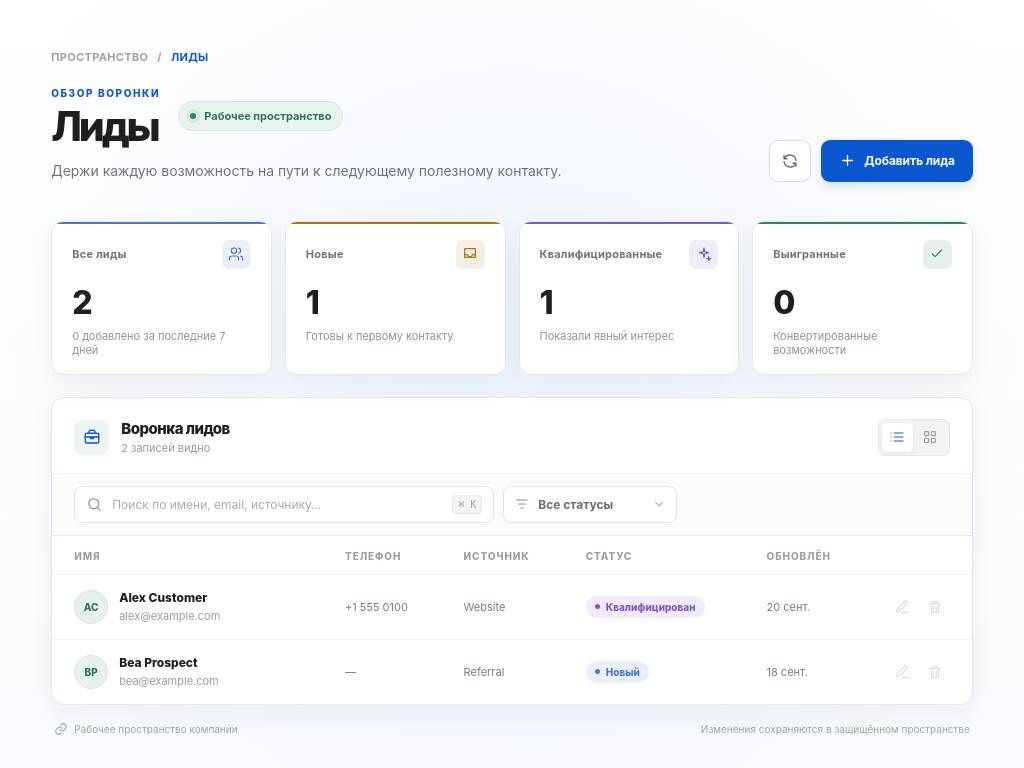
Test: LeadsPage › creates a lead from the drawer and updates the list
This screenshot has width=1024, height=768.
Expected: the text "Alex Customer" is shown, 119,590 -> 220,605
Click the button "Добавить лида": click(897, 161) 821,140 -> 973,182
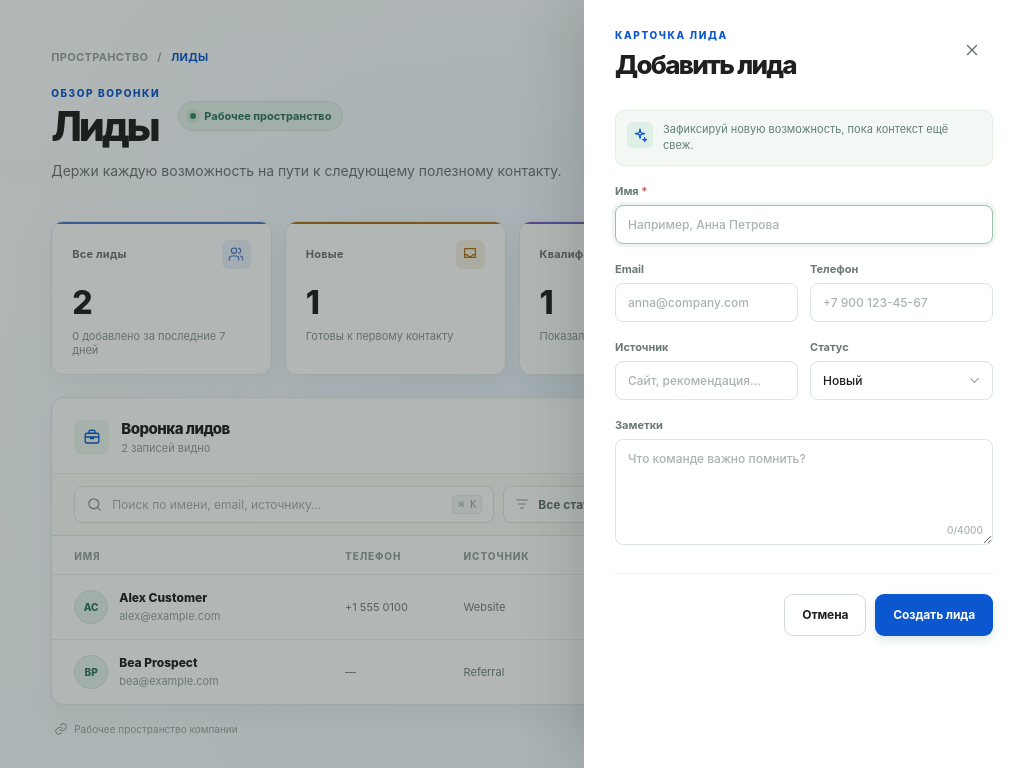
In the field labelled "Имя *": (804, 224) 615,205 -> 993,244, type "New Lead"
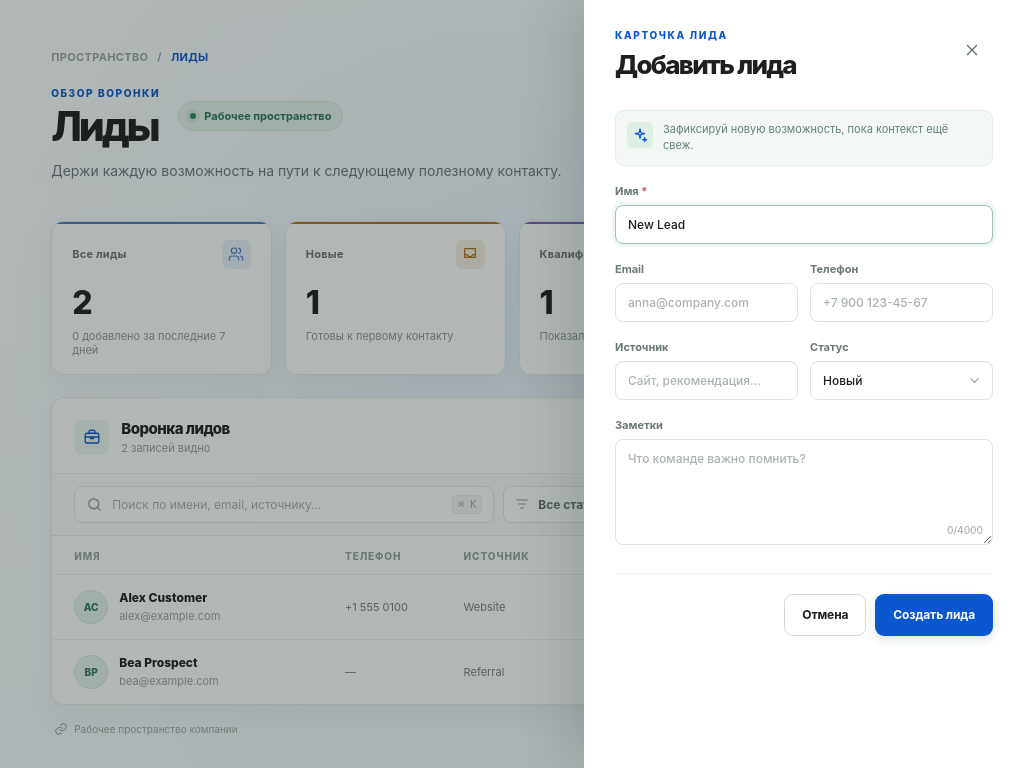
Click the button "Создать лида": click(934, 615) 875,594 -> 993,636
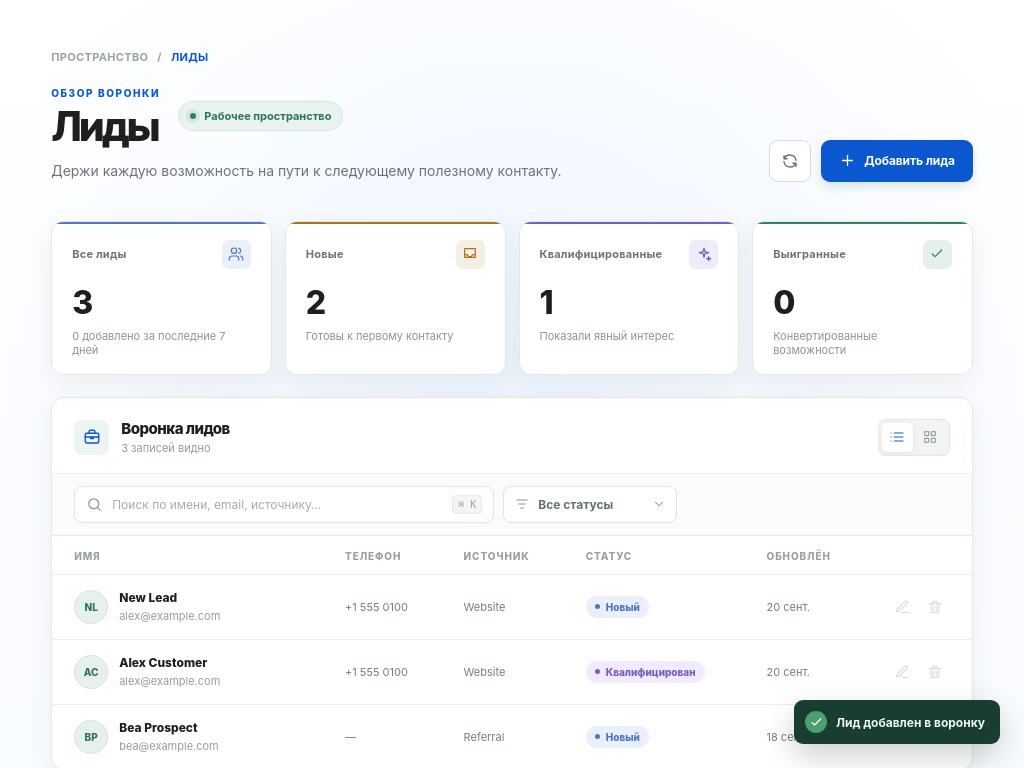
Result: the text "Лид добавлен в воронку" is shown at 794,700 -> 1000,744
Result: the text "New Lead" is shown at 119,590 -> 177,605
